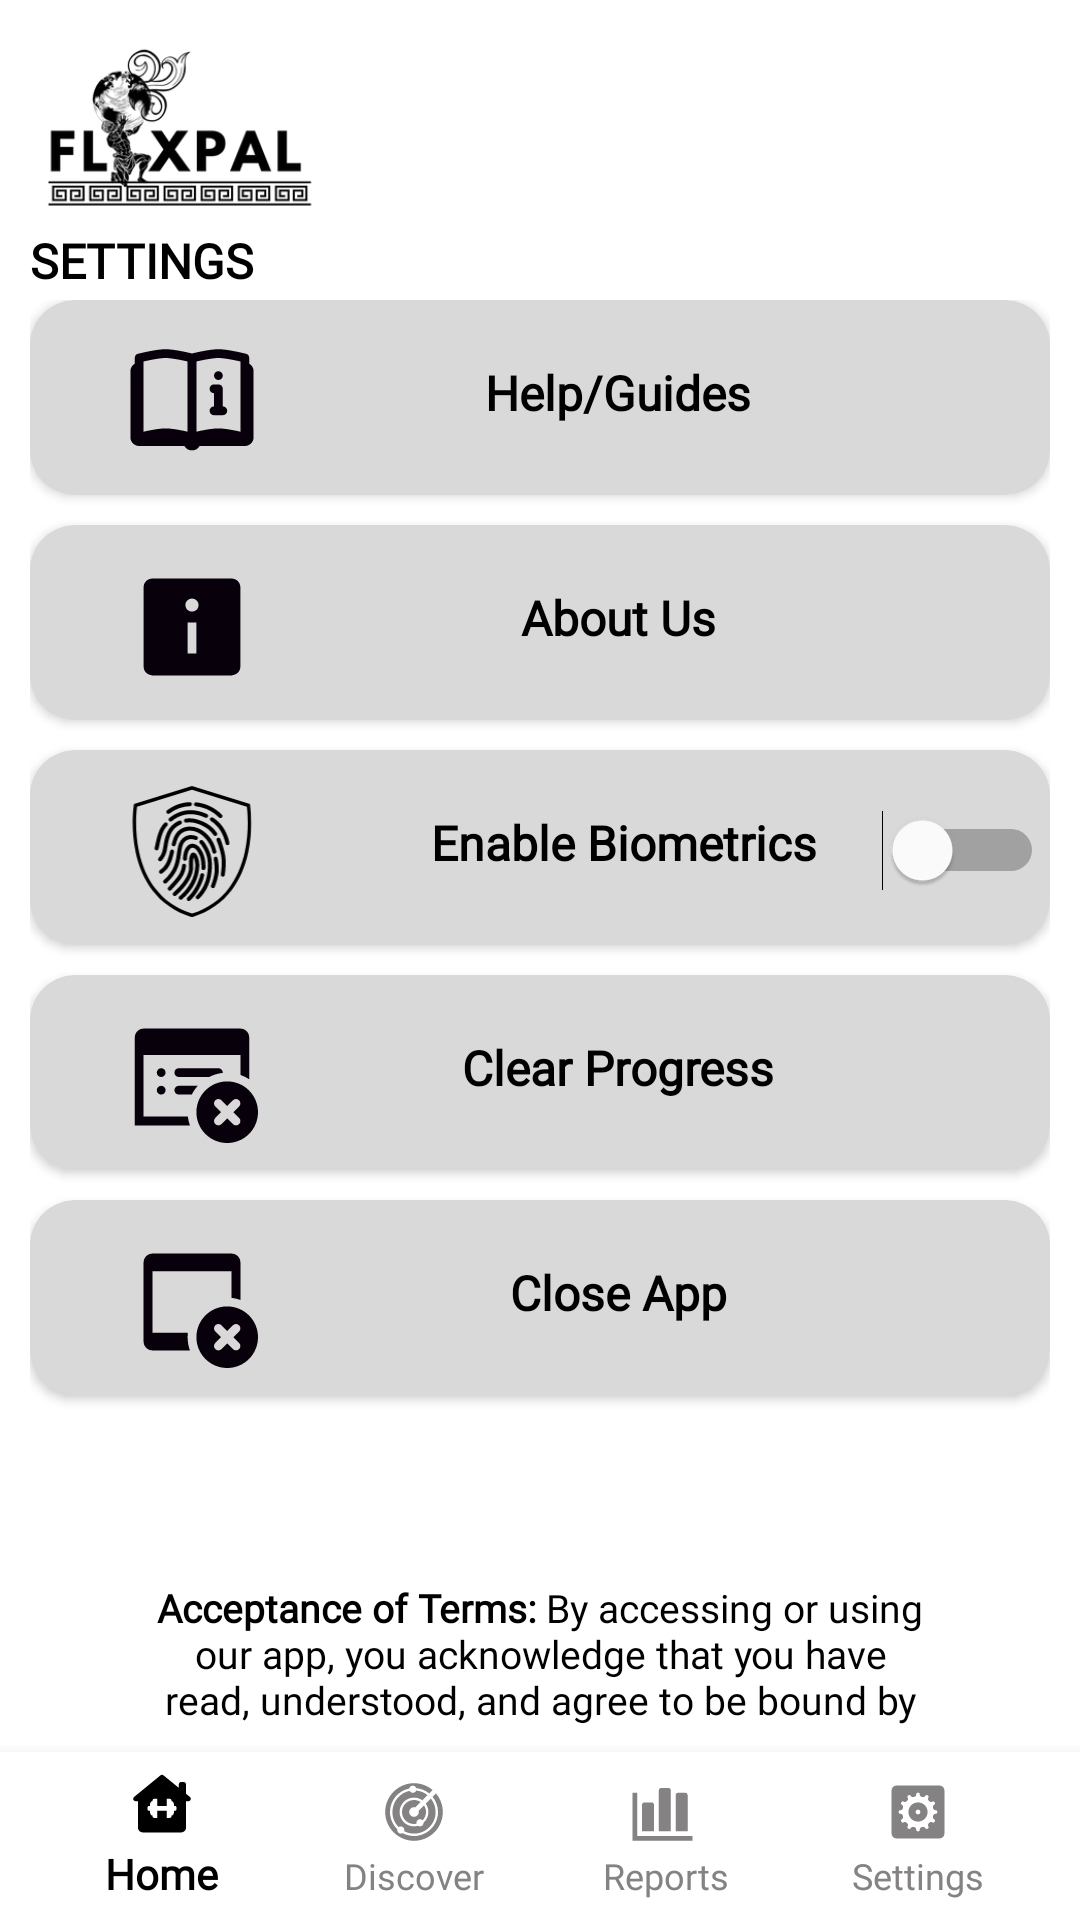

Icons on this 1080 x 1920 Android screen, each with the point to tap as point (x, y):
sabout xaml: point (192, 627)
sdelete xaml: point (196, 1085)
shelp xaml: point (192, 400)
